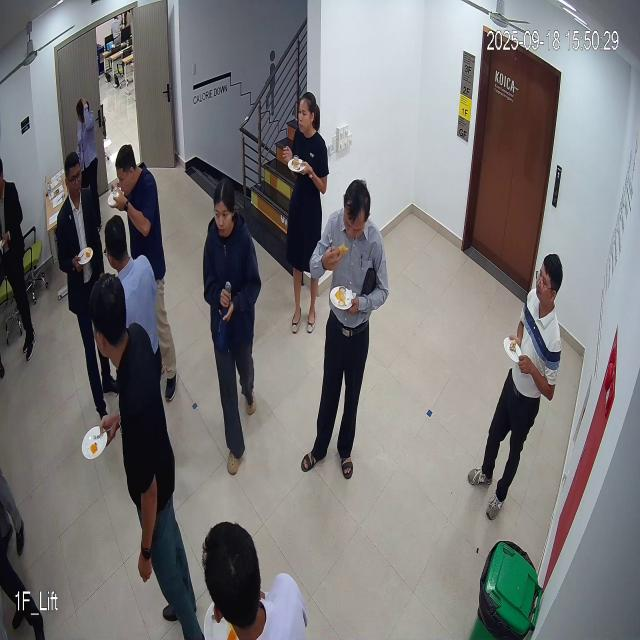face: (533, 241, 564, 315), (343, 176, 370, 248), (204, 179, 236, 239), (295, 86, 323, 143)
